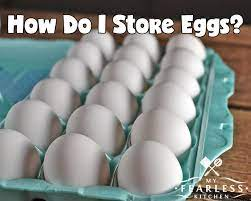eggs: (44, 99, 121, 182), (28, 73, 126, 132), (126, 101, 184, 192), (153, 58, 209, 118), (66, 40, 119, 100), (101, 52, 134, 109)
